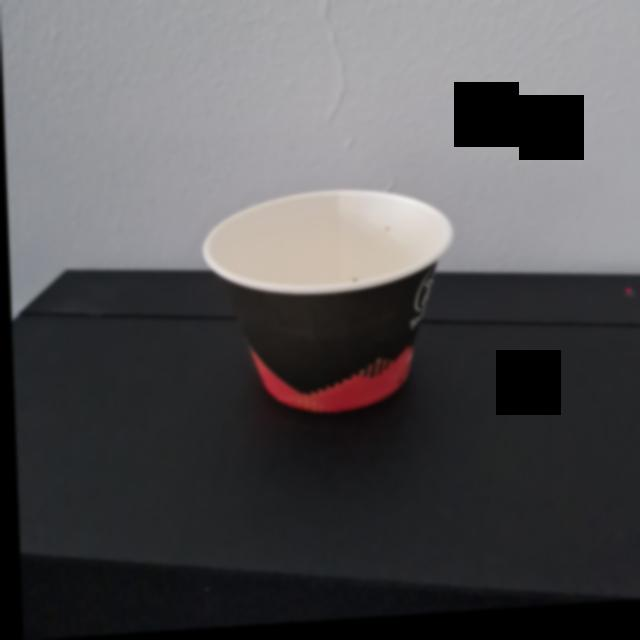cups: (199, 187, 462, 426)
